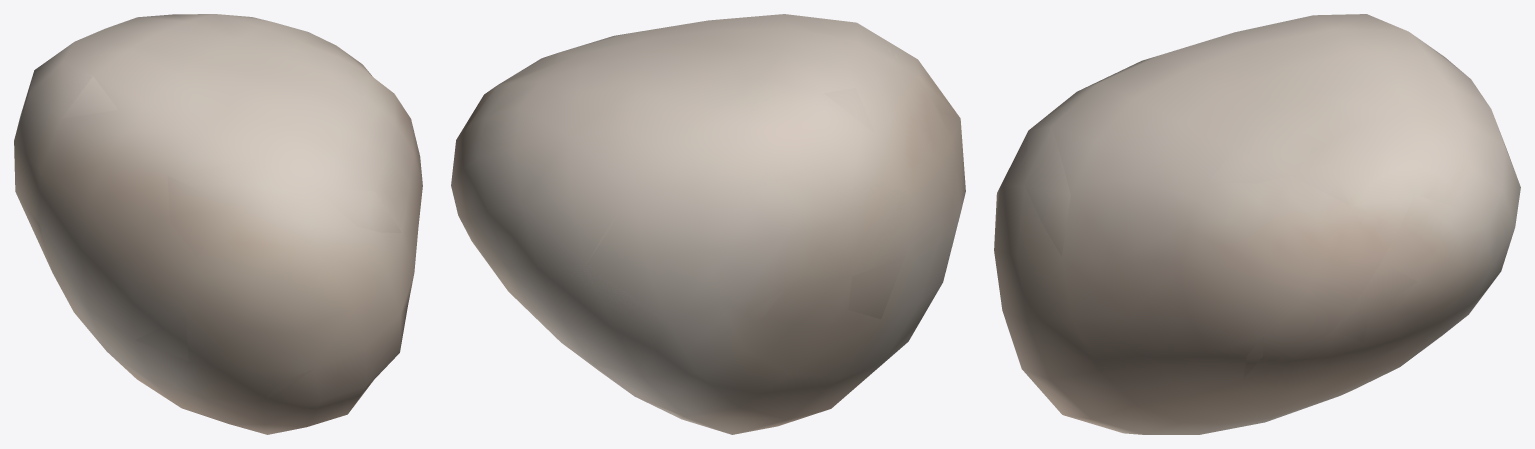
The model's file is Pisiform R.fbx.
3 views of the same model, side by side, from view 1: azimuth 30°, elevation 25°; view 2: azimuth 150°, elevation 25°; view 3: azimuth 270°, elevation 25° (orthographic). The views are drawn at different scales.
Parts seen in each view (by area): view 1: Pisiform R, Pisiform R low; view 2: Pisiform R, Pisiform R low; view 3: Pisiform R, Pisiform R low.
Part boxes in pixels (x1,y1,x2,y2): Pisiform R: [14, 14, 422, 434]; Pisiform R low: [14, 41, 401, 432]; Pisiform R: [451, 14, 965, 434]; Pisiform R low: [498, 25, 959, 434]; Pisiform R: [994, 14, 1520, 434]; Pisiform R low: [994, 14, 1513, 433].
Bounding box in the file's own units: 0.0332 × 0.0292 × 0.0381.
